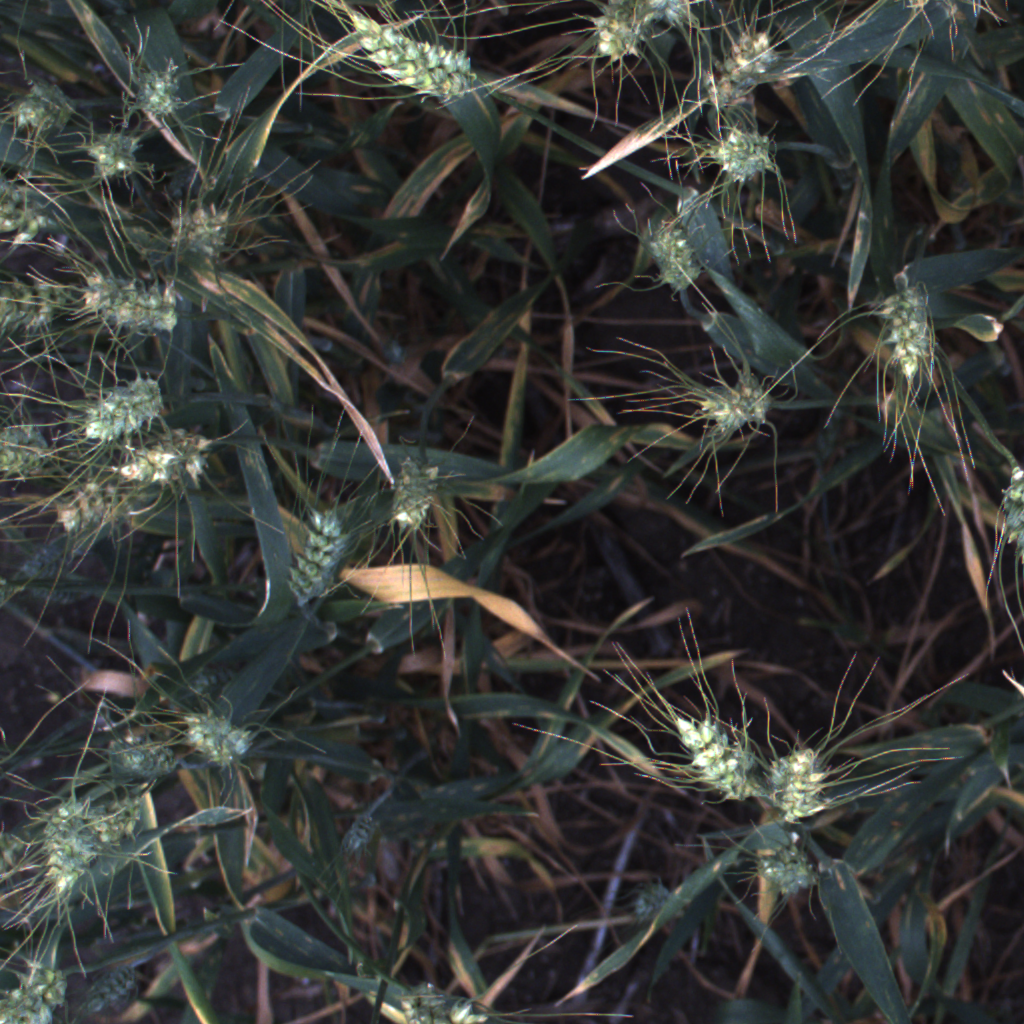wheat_head: (350, 3, 487, 116), (687, 13, 793, 123), (67, 251, 187, 341), (31, 780, 113, 909), (671, 706, 767, 806), (292, 492, 370, 610), (870, 270, 947, 389), (155, 173, 239, 274), (697, 111, 790, 197), (71, 371, 171, 447), (48, 479, 171, 540), (171, 698, 266, 774), (767, 729, 838, 830), (626, 217, 708, 301), (681, 380, 780, 444), (745, 840, 832, 910), (0, 268, 83, 340), (0, 951, 80, 1024), (101, 720, 183, 787), (125, 49, 191, 128), (125, 416, 223, 469), (389, 979, 504, 1024), (723, 354, 779, 441), (581, 0, 647, 72), (87, 791, 163, 852), (0, 407, 62, 481), (386, 451, 444, 530), (115, 449, 218, 493), (993, 450, 1024, 581), (88, 960, 149, 1024), (11, 79, 69, 136), (84, 133, 148, 183), (645, 0, 694, 45), (335, 820, 378, 869), (627, 887, 672, 922)
